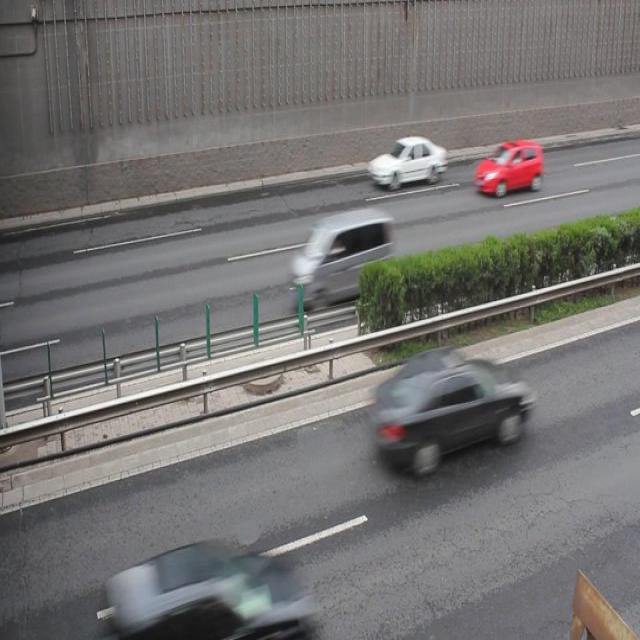car: (107, 538, 314, 640), (372, 349, 531, 472), (367, 135, 446, 190), (472, 138, 541, 195)
truck: (287, 208, 393, 304)
